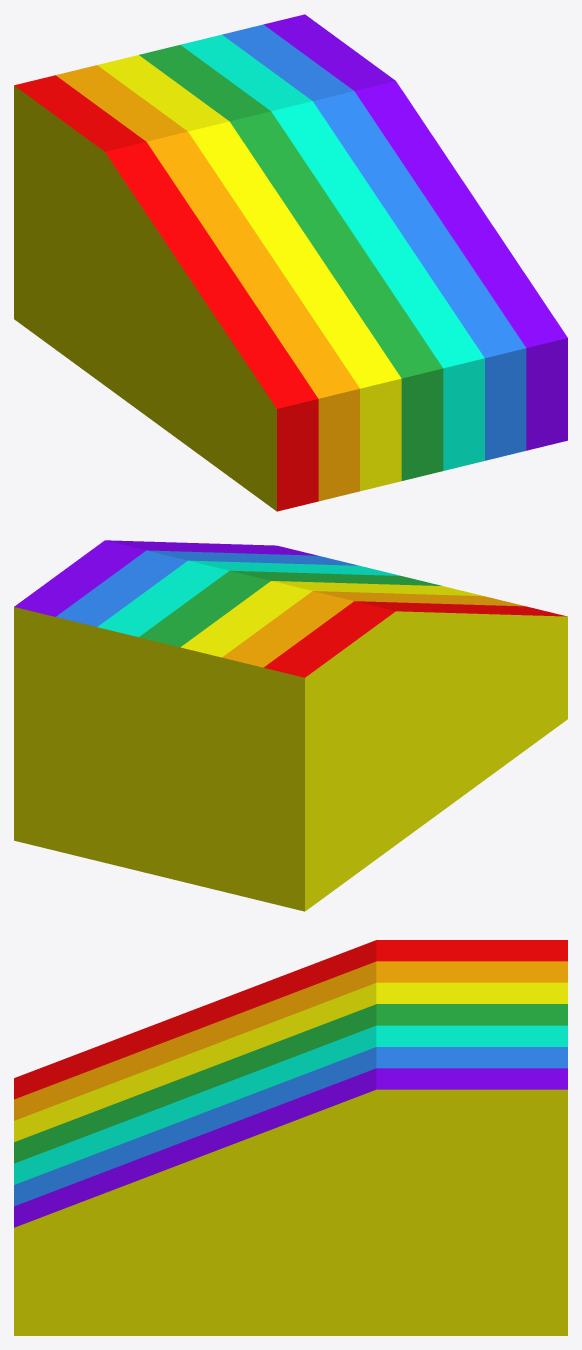
File: Platform type 4.fbx
3 renders of one model, top to bottom at view 1: azimuth 30°, elevation 25°; view 2: azimuth 150°, elevation 25°; view 3: azimuth 270°, elevation 25°, orthographic. The views are drawn at different scales.
Visible parts, largest first — view 1: PlatformUp1; view 2: PlatformUp1; view 3: PlatformUp1.
Part boxes in pixels (x1,y1,x2,y2): PlatformUp1: [14, 14, 567, 511]; PlatformUp1: [14, 540, 567, 911]; PlatformUp1: [14, 940, 567, 1335].
Size of the model in its own units: 10.32 by 7.92 by 16.14.
